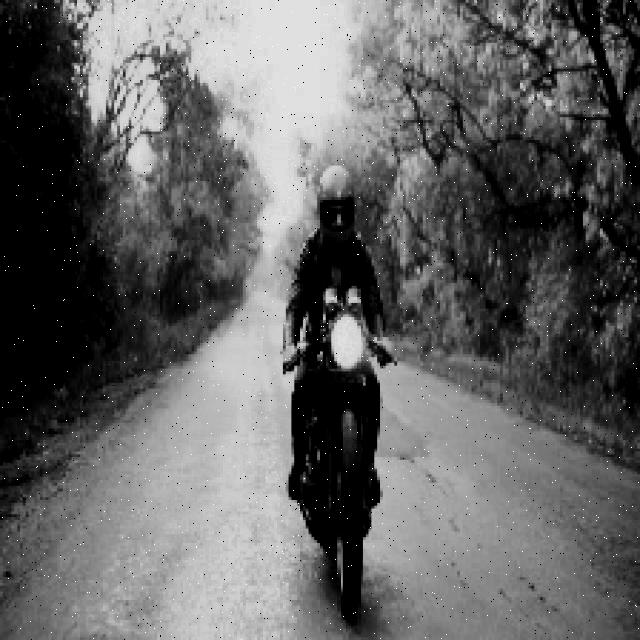Bike: (288, 310, 388, 609)
